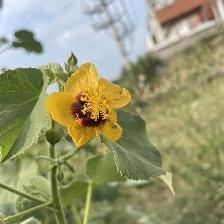indian mallow: (47, 62, 135, 149)
